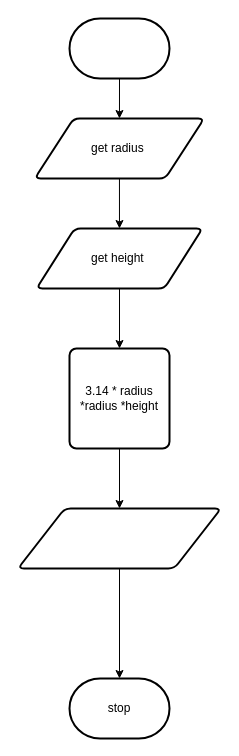
Some shapes in this 239 by 756 pixel diagram are drawn without their labels. The box of each missing label's shape, as (x1, y1, x2, y2) in pixels:
get volume of cylinder: (16, 507, 222, 569)
start: (68, 17, 170, 79)
